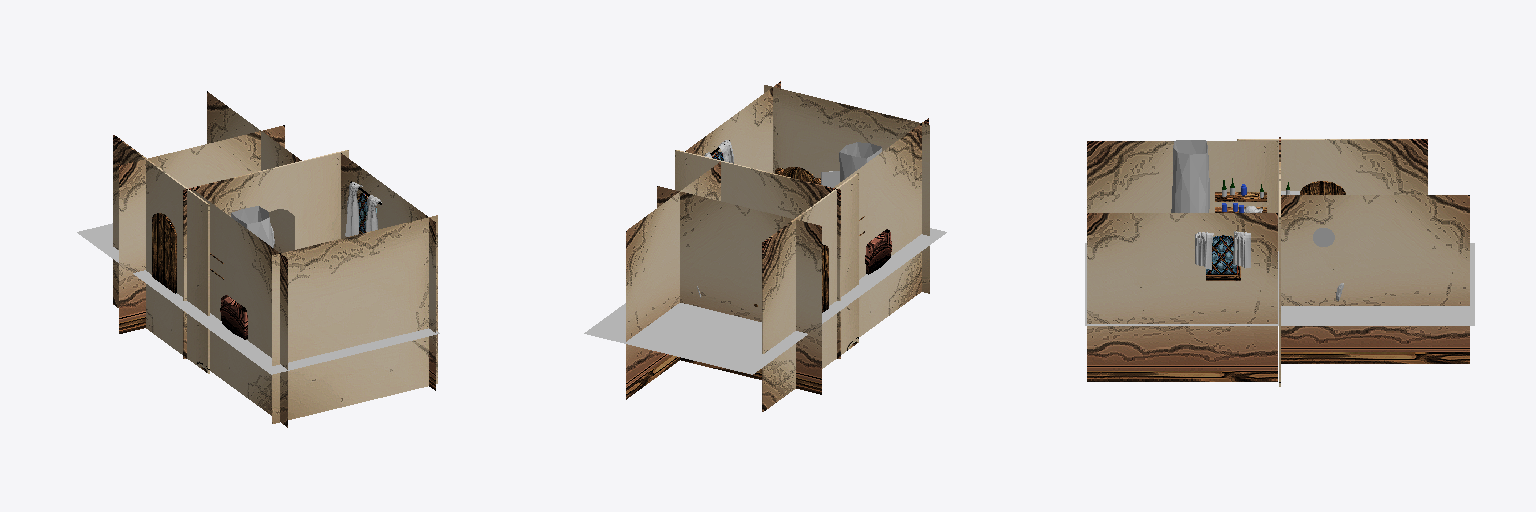
3 views of the same model, side by side, from view 1: azimuth 30°, elevation 25°; view 2: azimuth 150°, elevation 25°; view 3: azimuth 270°, elevation 25° (orthographic).
Visible parts, largest first — view 1: wall4_Plane.006, wall2_Plane.004, wall3.001_Plane.012, wall1.002_Plane.011, wall3_Plane.005, wall1_Plane.001, wall1.001_Plane.010, Floor_Plane, Cube.007_Cube.008, Cube.010_Cube, Floor.001_Plane.007, Plane_Plane.008; view 2: wall1.002_Plane.011, wall3.001_Plane.012, wall2_Plane.004, wall4_Plane.006, wall1.001_Plane.010, Floor.001_Plane.007, wall3_Plane.005, wall1_Plane.001, Cube.007_Cube.008, Floor_Plane; view 3: wall1_Plane.001, wall1.001_Plane.010, wall2_Plane.004, wall3.001_Plane.012, Floor.001_Plane.007, Cube.007_Cube.008, Cube.011_Cube.012, Floor_Plane, Plane_Plane.008, Plane.001_Plane.009.
Boxes of the visible parts, <box> form: wall4_Plane.006: <box>272,215,437,423</box>; wall2_Plane.004: <box>192,189,287,427</box>; wall3.001_Plane.012: <box>113,135,209,373</box>; wall1.002_Plane.011: <box>119,125,284,333</box>; wall3_Plane.005: <box>183,150,348,358</box>; wall1_Plane.001: <box>341,153,435,390</box>; wall1.001_Plane.010: <box>207,91,301,252</box>; Floor_Plane: <box>174,301,439,374</box>; Cube.007_Cube.008: <box>220,206,272,339</box>; Cube.010_Cube: <box>152,213,176,293</box>; Floor.001_Plane.007: <box>77,223,182,302</box>; Plane_Plane.008: <box>345,182,362,236</box>; wall1.002_Plane.011: <box>657,186,821,394</box>; wall3.001_Plane.012: <box>762,173,858,411</box>; wall2_Plane.004: <box>834,118,928,336</box>; wall4_Plane.006: <box>764,85,929,293</box>; wall1.001_Plane.010: <box>626,162,720,399</box>; Floor.001_Plane.007: <box>584,301,849,374</box>; wall3_Plane.005: <box>675,150,840,358</box>; wall1_Plane.001: <box>685,81,780,172</box>; Cube.007_Cube.008: <box>839,142,891,274</box>; Floor_Plane: <box>841,228,946,302</box>; wall1_Plane.001: <box>1087,213,1277,381</box>; wall1.001_Plane.010: <box>1281,195,1469,363</box>; wall2_Plane.004: <box>1087,141,1277,212</box>; wall3.001_Plane.012: <box>1237,139,1427,250</box>; Floor.001_Plane.007: <box>1281,243,1474,325</box>; Cube.007_Cube.008: <box>1171,140,1209,212</box>; Cube.011_Cube.012: <box>1206,235,1240,280</box>; Floor_Plane: <box>1085,243,1278,325</box>; Plane_Plane.008: <box>1233,231,1250,268</box>; Plane.001_Plane.009: <box>1195,232,1213,269</box>.
Size of the model in its own units: 8.47 by 7.26 by 15.01.
11 materials, 1 textured.